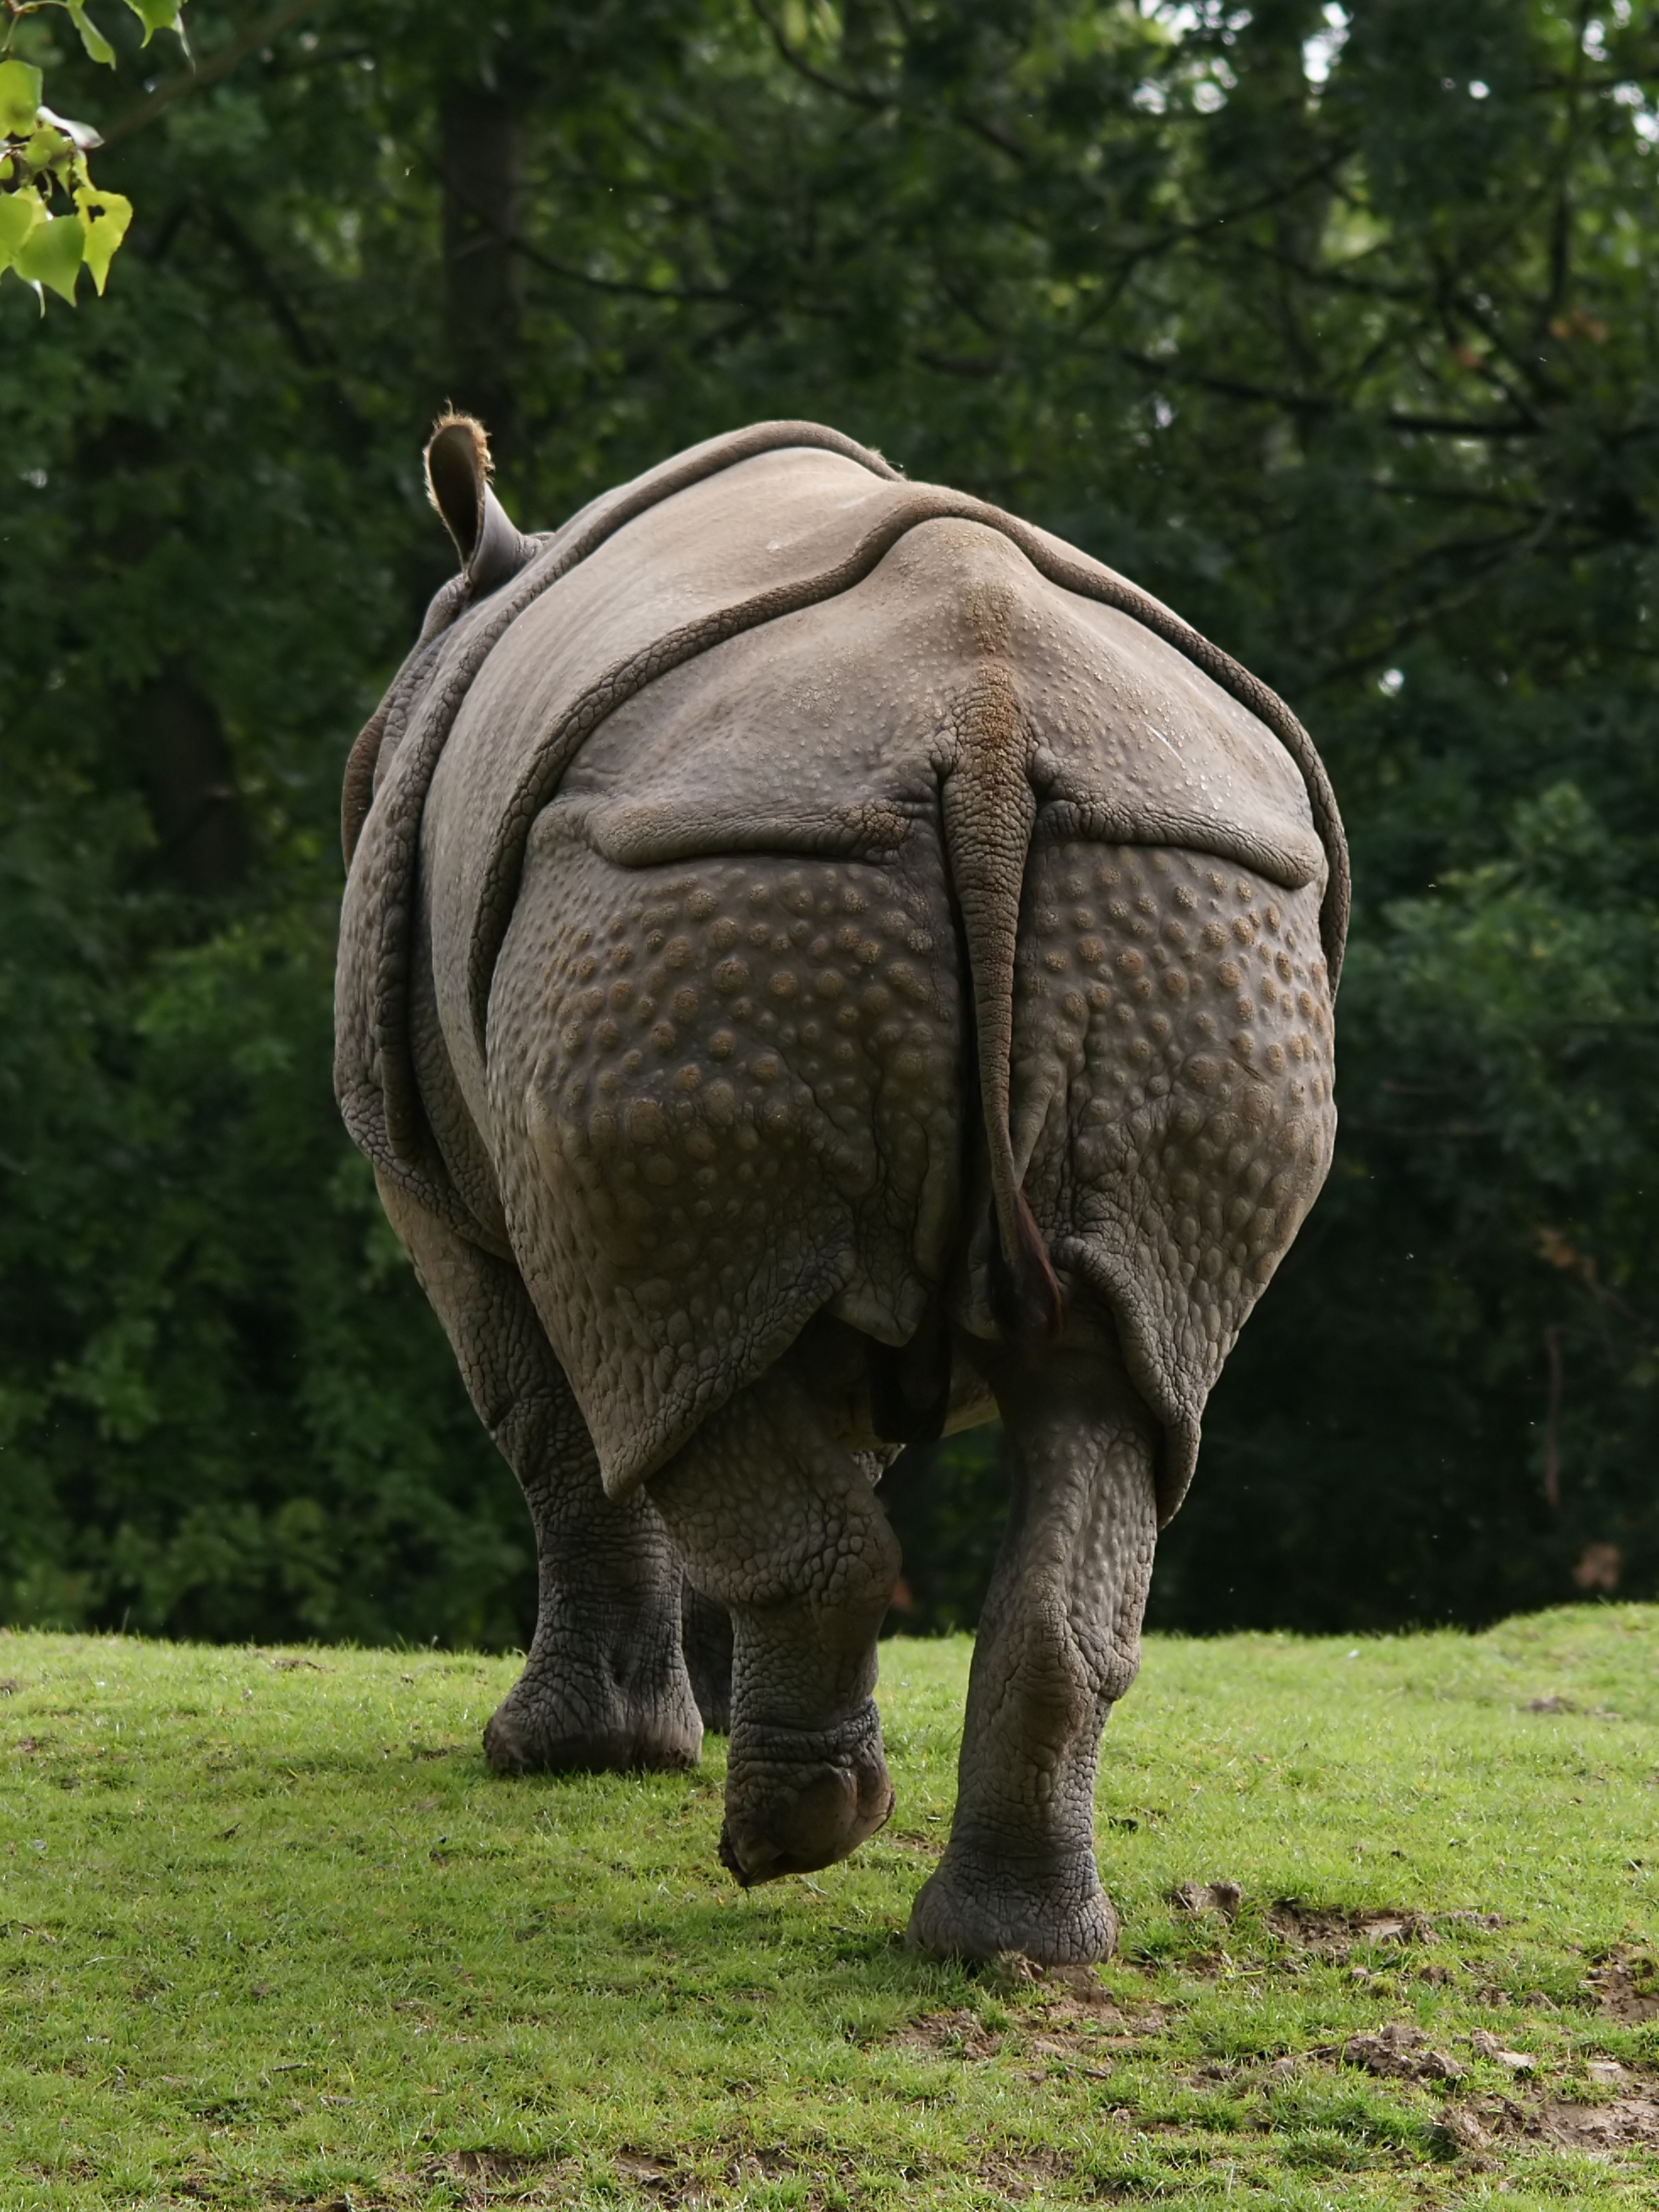rhinoceros: (333, 376, 1371, 1994)
